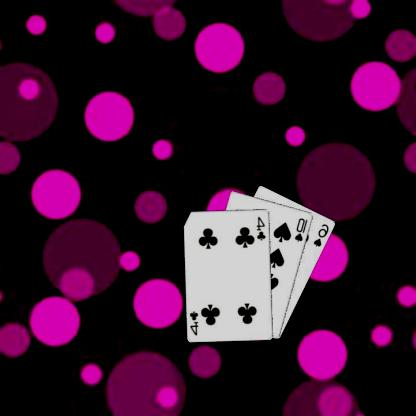10S: (294, 216, 311, 243)
4C: (256, 214, 269, 241), (189, 308, 201, 336)
6S: (312, 221, 332, 248)
